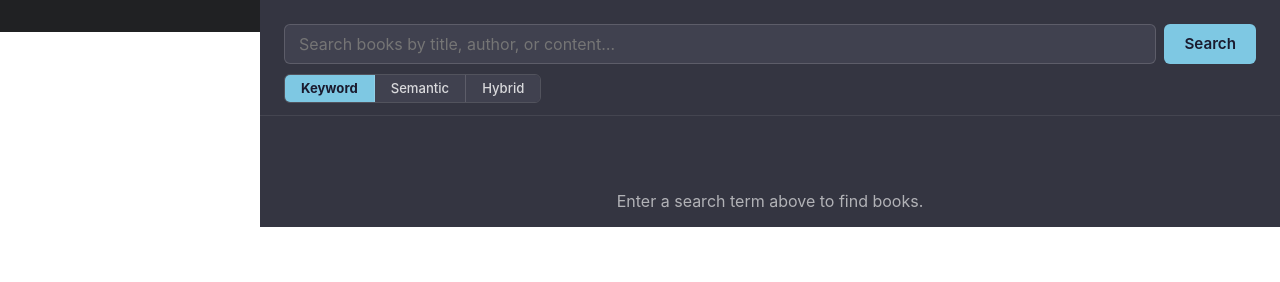
Test case: SearchPage › shows empty state when search returns no results
The image size is (1280, 282).
In the search field named "search query": (720, 44) [284,24,1156,64], type "noresults"
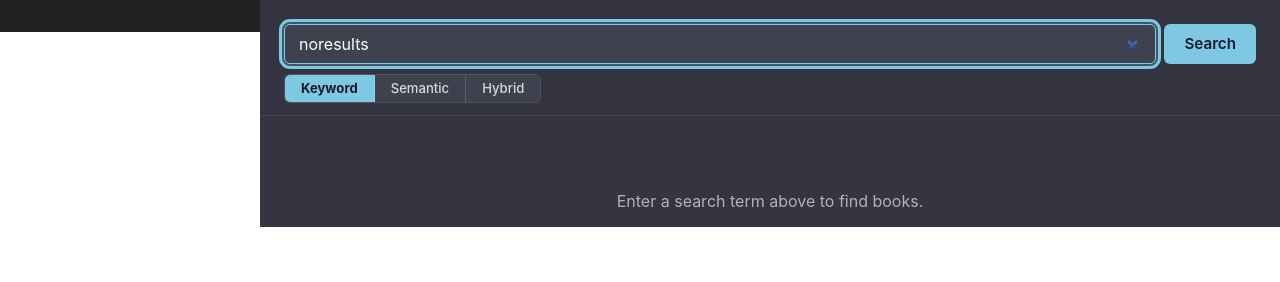
Click the button "Search": (1210, 44) [1164,24,1256,64]
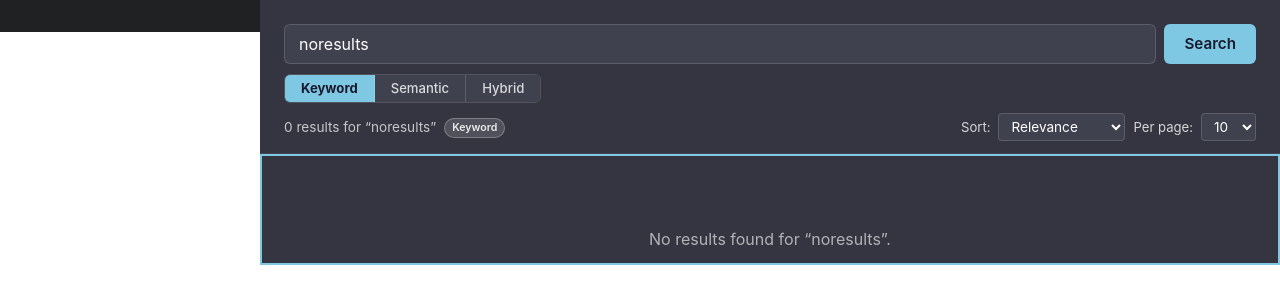
Result: the text "No results found for “noresults”." is shown at [649,230,891,249]
